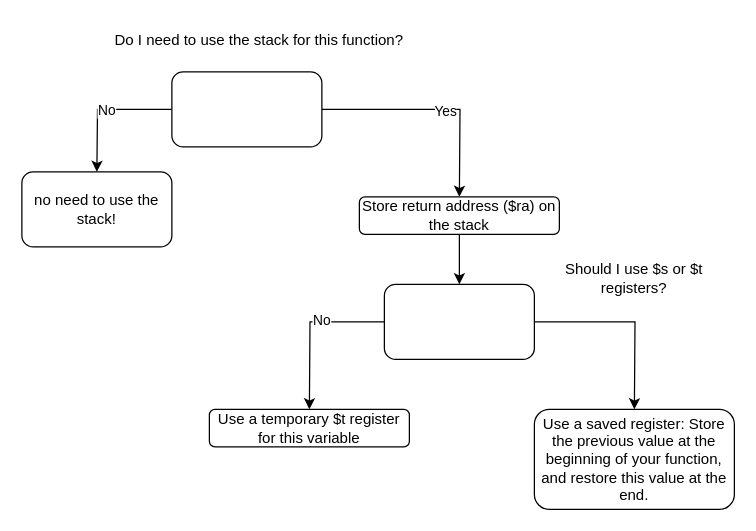
Some shapes in this 756 by 531 pixel diagram are drawn without their labels. The centre of each missing label's shape, as x and y in pixels:
"Does this function call other functions?" belongs at point (246, 109).
"For each variable: Do I need this before and after the function call?" belongs at point (458, 321).
